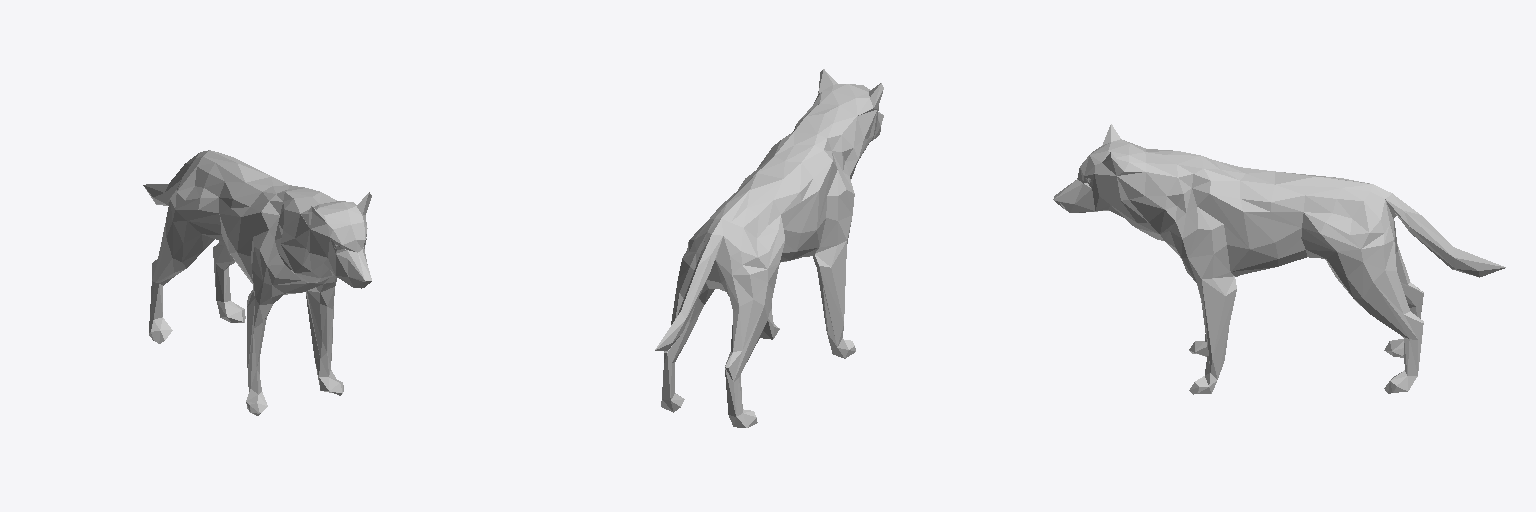
File: wolf.obj
3 views of the same model, side by side, from view 1: azimuth 30°, elevation 25°; view 2: azimuth 150°, elevation 25°; view 3: azimuth 270°, elevation 25° (orthographic).
Parts seen in each view (by area): view 1: wolf; view 2: wolf; view 3: wolf.
Boxes of the visible parts, x1=… form: wolf: x1=143, y1=150, x2=371, y2=415; wolf: x1=655, y1=69, x2=883, y2=427; wolf: x1=1053, y1=124, x2=1505, y2=394.
Bounding box in the file's own units: 1.71 × 4.1 × 7.11.